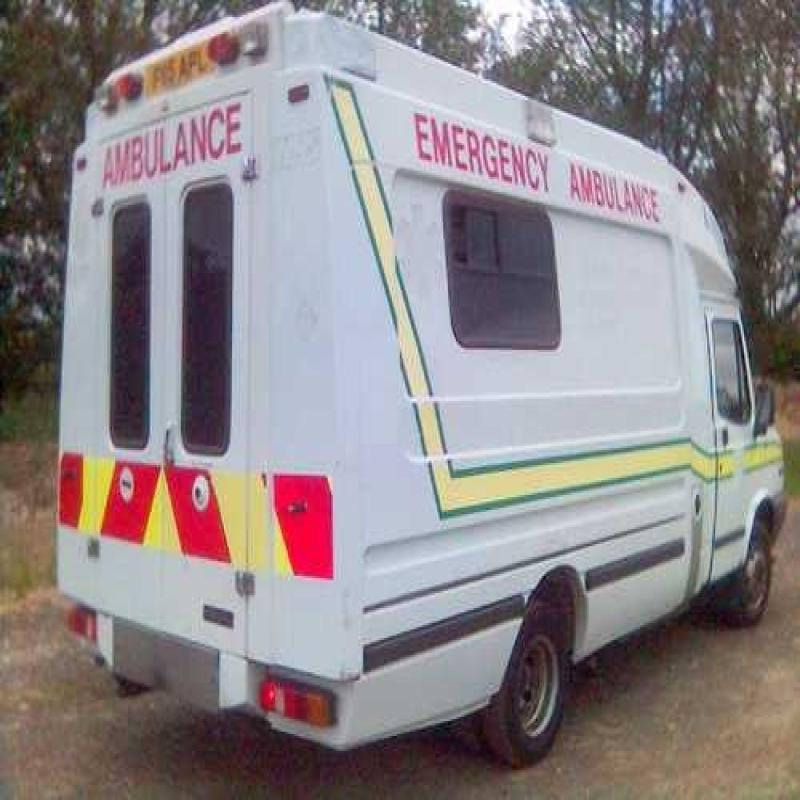AmbulanceSiren: (76, 20, 262, 108)
